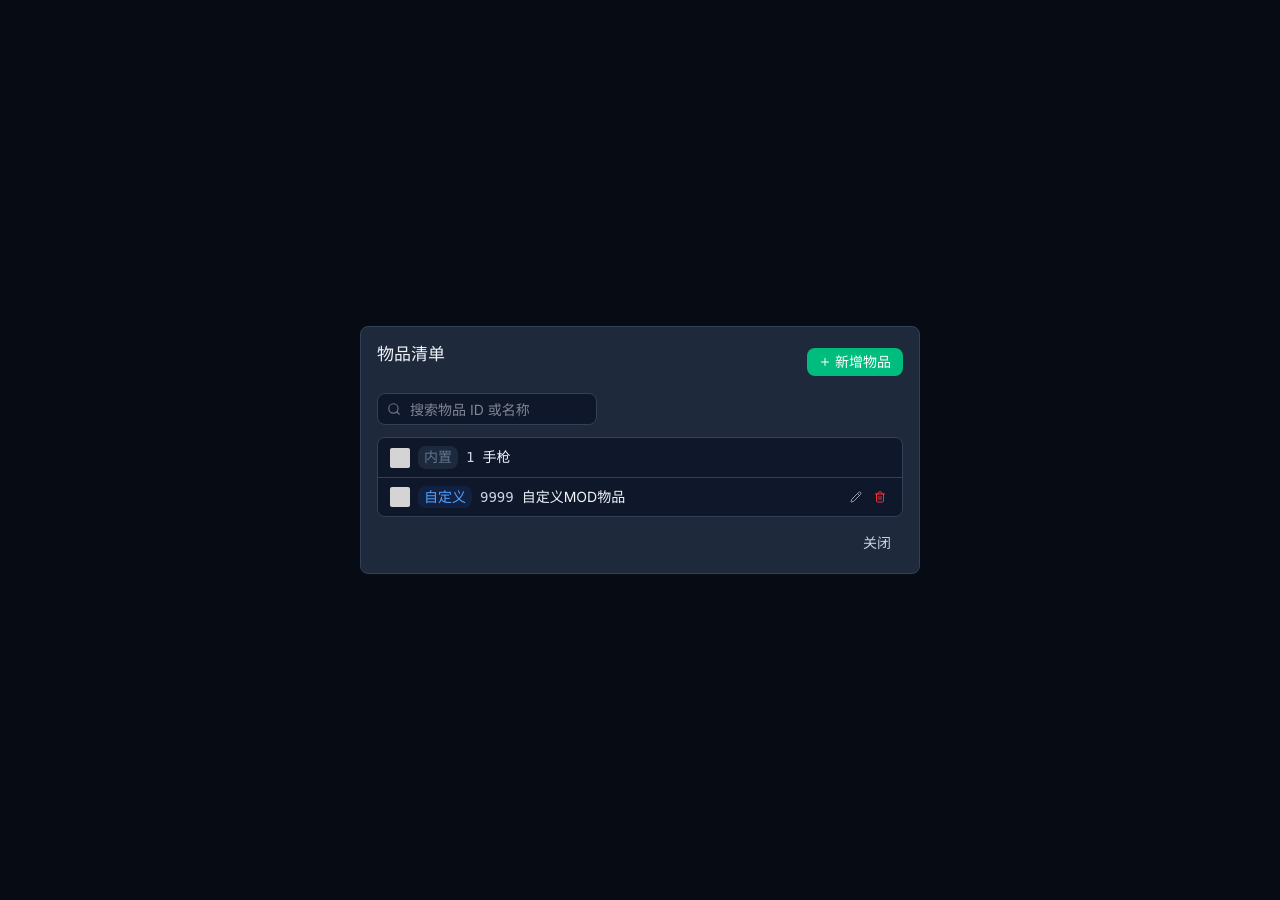
ItemListDialog — 物品清单管理 › 编辑：改 ID 撞已存在 → 字段报错，不调 updateItem
This screenshot has width=1280, height=900.
Click the button named "编辑物品 9999" at [856, 497], box x1=846 y1=487 x2=866 y2=507
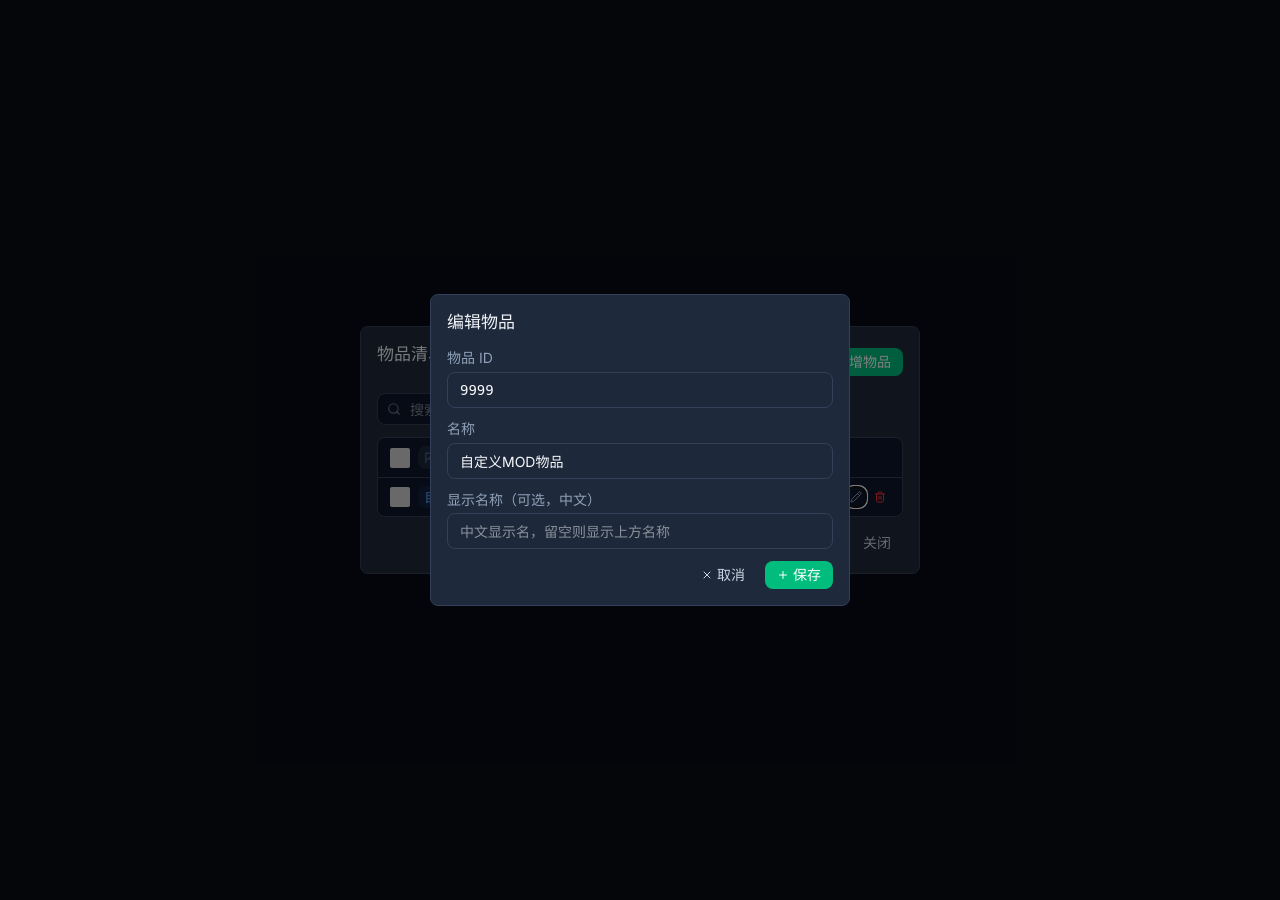
Replace the text in the field with placeholder "例如 1" below "物品 ID" with "1" at [640, 390], box x1=447 y1=372 x2=833 y2=408
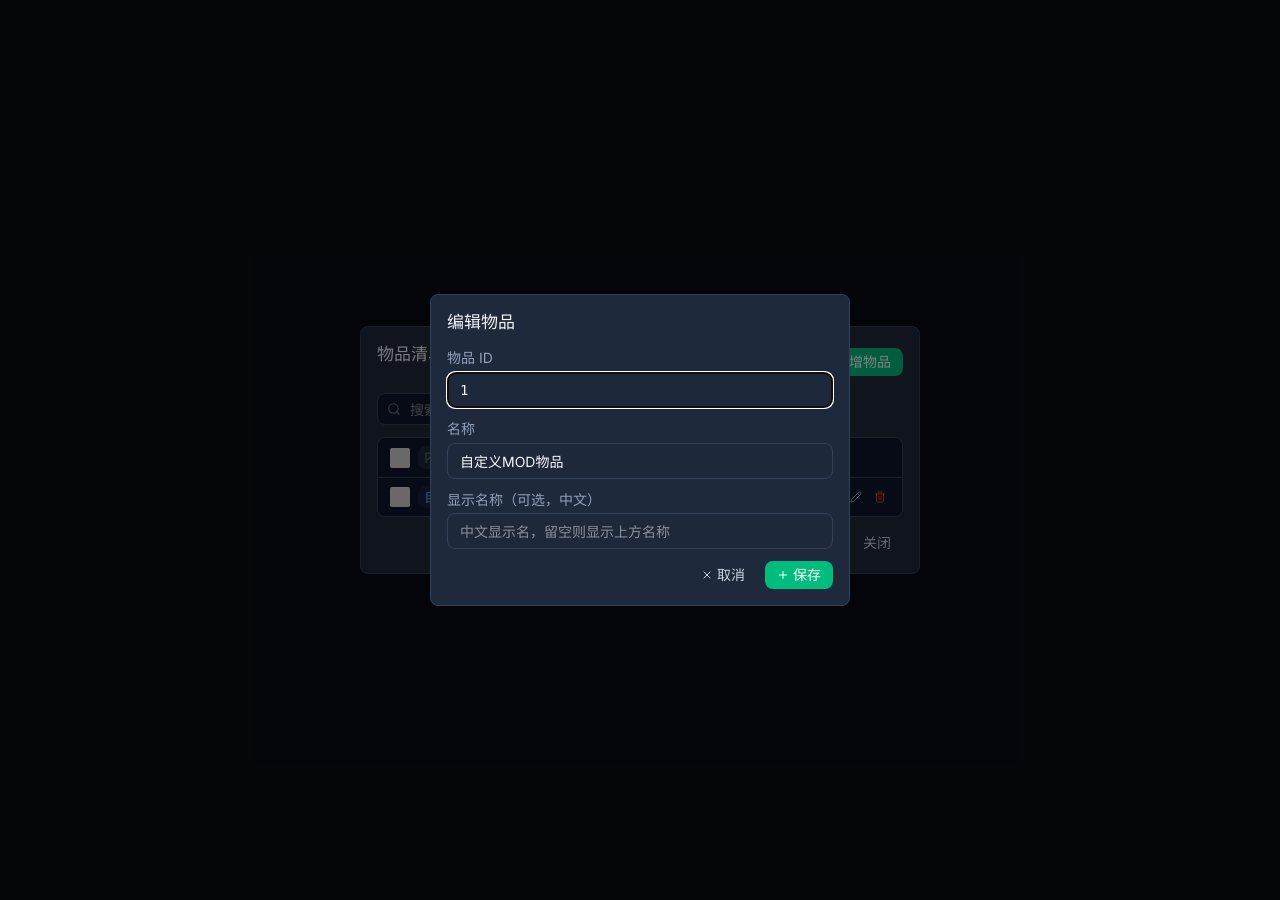
Click the button "保存" at [799, 575], box x1=765 y1=561 x2=833 y2=589
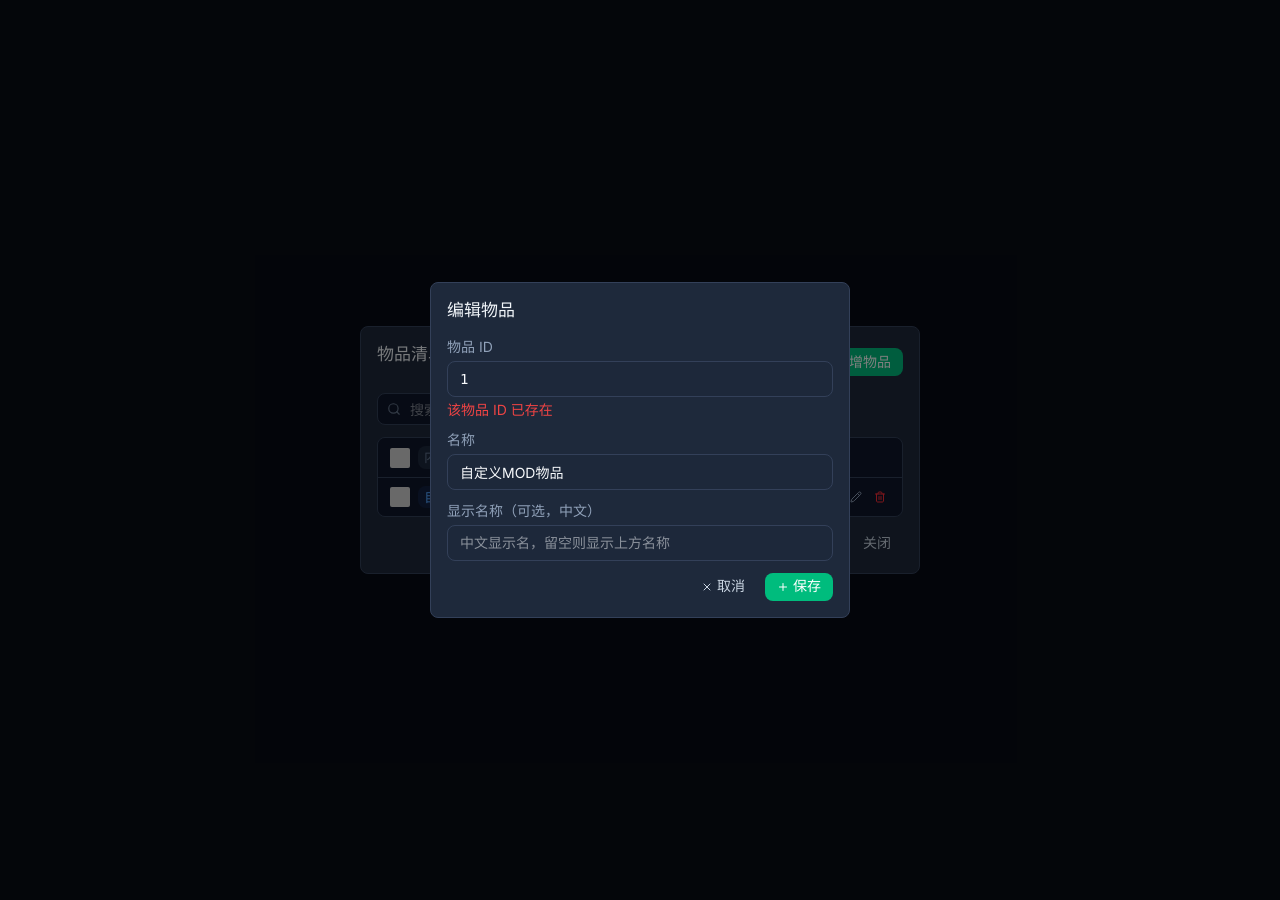
Expected: the text "该物品 ID 已存在" is shown, x1=447 y1=401 x2=553 y2=418
